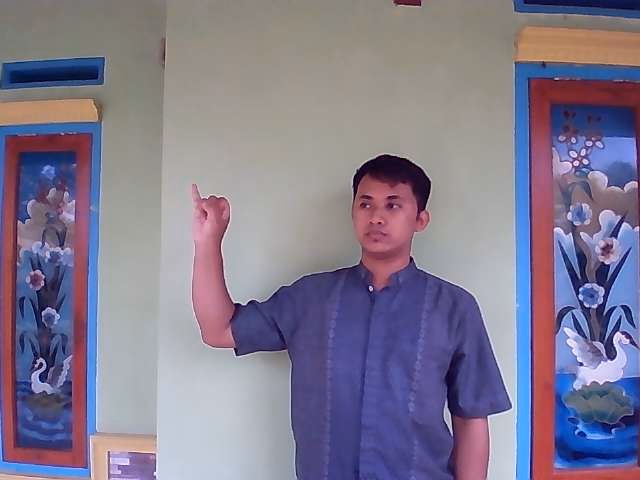I: (182, 179, 235, 260)
